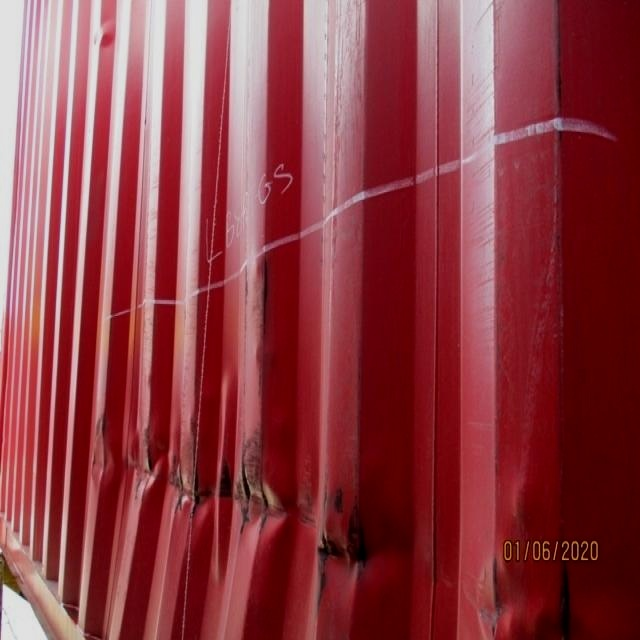Dent: (90, 424, 424, 601), (472, 533, 581, 640), (93, 21, 123, 59)
